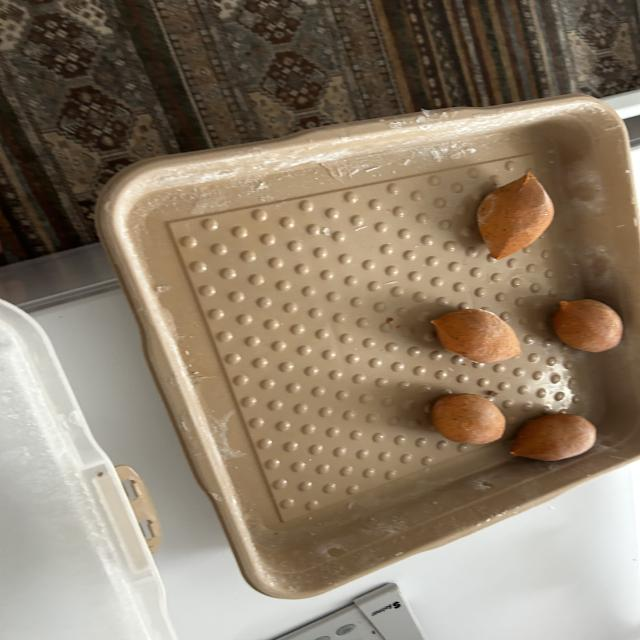kobi: (476, 169, 555, 259), (423, 308, 531, 363), (504, 412, 606, 463), (424, 396, 514, 442), (550, 301, 631, 350)
